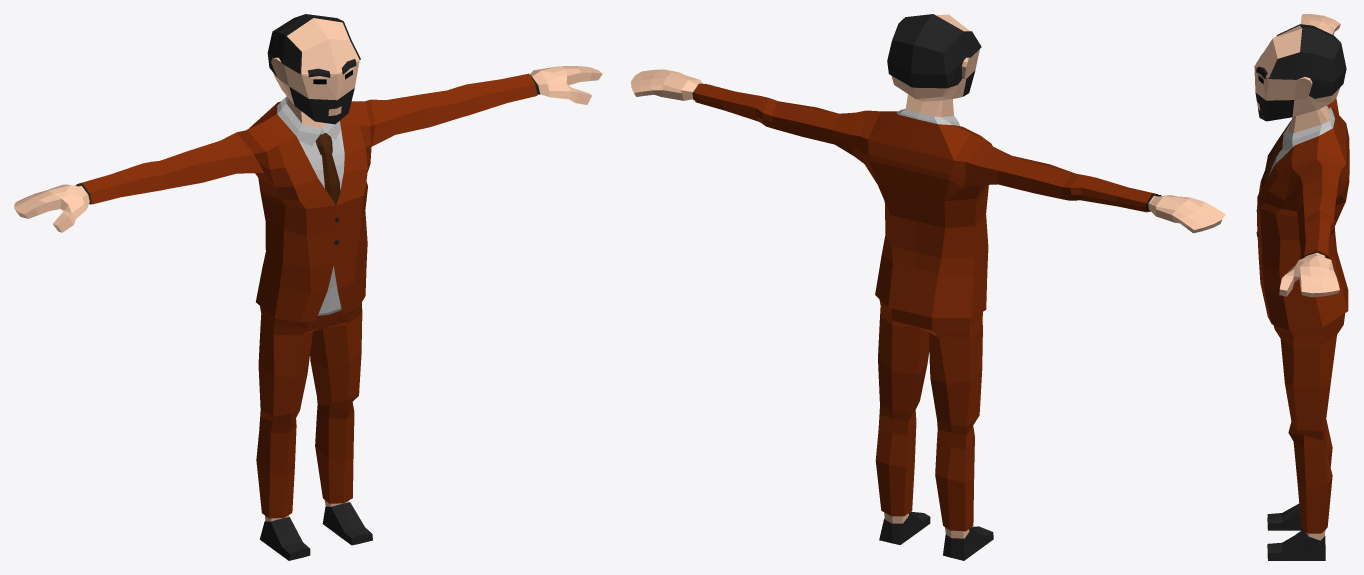
The model's file is NPC_GranateAnaranjado_Escenario2_Corbata.fbx.
3 views of the same model, side by side, from view 1: azimuth 30°, elevation 25°; view 2: azimuth 150°, elevation 25°; view 3: azimuth 270°, elevation 25° (orthographic). The views are drawn at different scales.
Visible parts, largest first — view 1: Personaje; view 2: Personaje; view 3: Personaje.
Boxes of the visible parts, bbox=[...] form: Personaje: bbox=[14, 14, 602, 560]; Personaje: bbox=[631, 14, 1225, 560]; Personaje: bbox=[1254, 14, 1349, 560].
Size of the model in its own units: 215 by 184 by 30.94.
